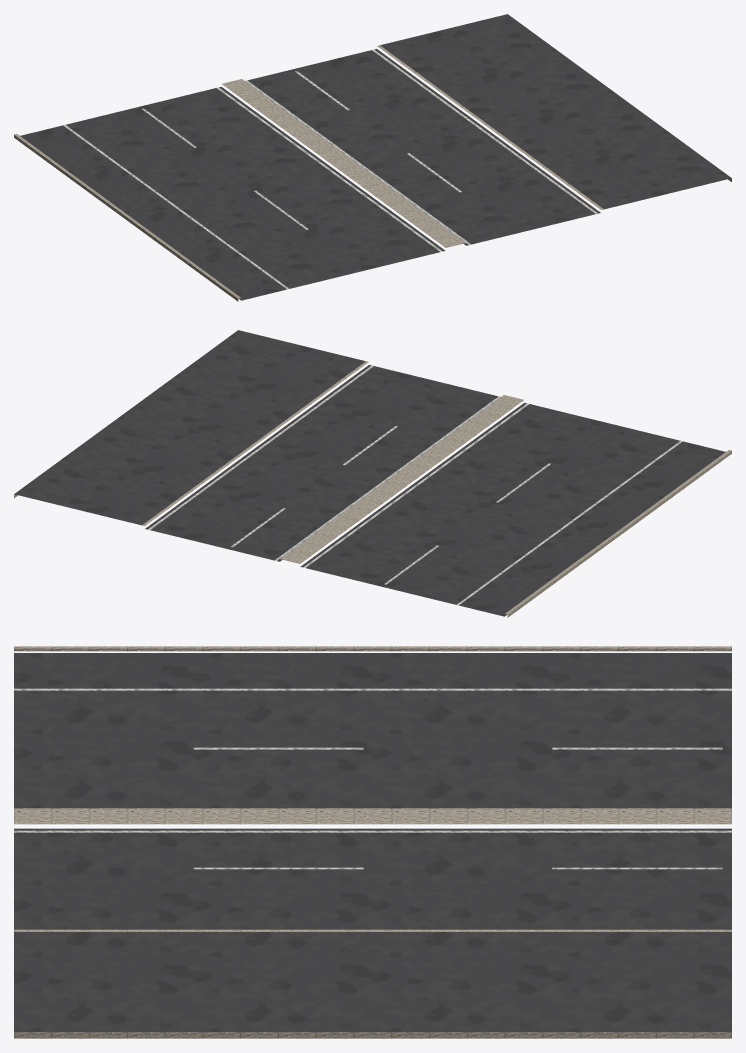
The model's file is SM_Viale_Italia_Strada_LOD2.fbx.
3 renders of one model, top to bottom at view 1: azimuth 30°, elevation 25°; view 2: azimuth 150°, elevation 25°; view 3: azimuth 270°, elevation 25°, orthographic. The views are drawn at different scales.
Visible parts, largest first — view 1: SM_Viale_Italia_Strada_LOD2; view 2: SM_Viale_Italia_Strada_LOD2; view 3: SM_Viale_Italia_Strada_LOD2.
Boxes of the visible parts, left/top/right/bottom form: SM_Viale_Italia_Strada_LOD2: left=14, top=14, right=731, bottom=301; SM_Viale_Italia_Strada_LOD2: left=14, top=330, right=731, bottom=617; SM_Viale_Italia_Strada_LOD2: left=14, top=646, right=731, bottom=1038.
Size of the model in its own units: 2415 by 1900 by 20.
Materials: 3 (3 with a texture image).
